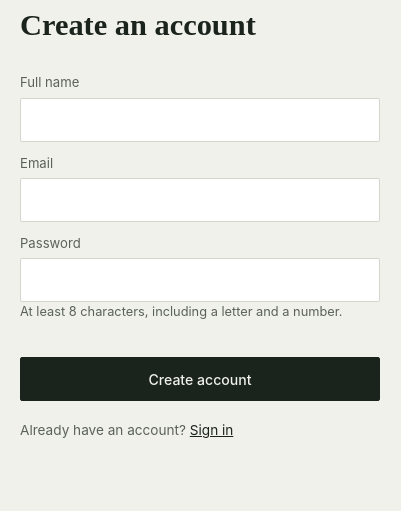
RegisterPage validation › rejects an email address with no domain
Type "Thandi Nkosi" into the field labelled "Full name" at (200, 120), box [20,98,380,142]
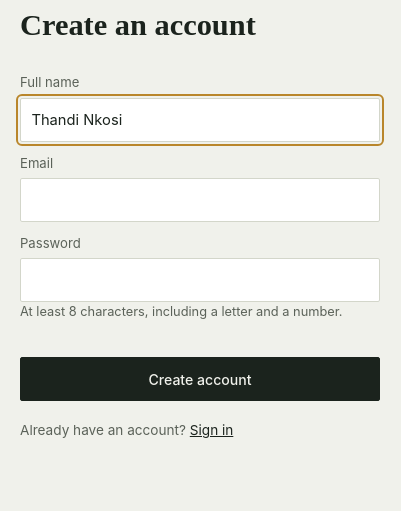
Type "thandi@example" into the field labelled "Email" at (200, 200), box [20,178,380,222]
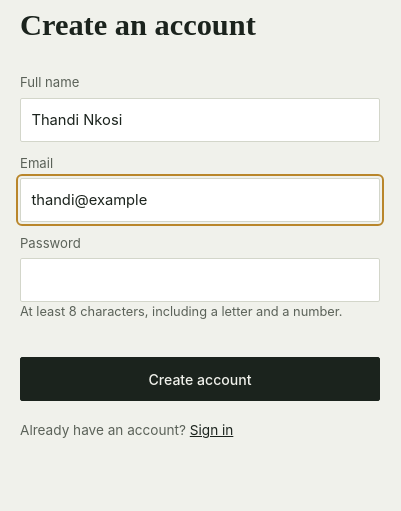
Type "correct-horse-9" into the password field labelled "Password" at (200, 280), box [20,258,380,302]
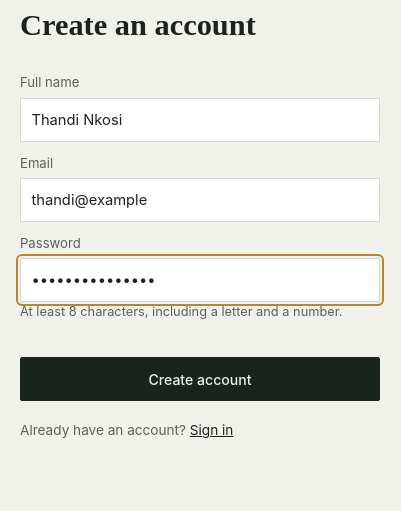
Click the button "Create account" at (200, 379), box [20,357,380,401]
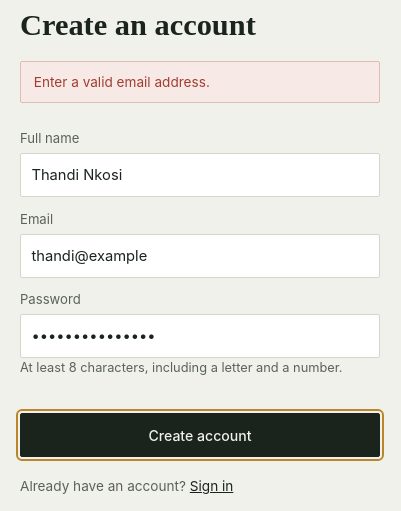
Result: the message reads "Enter a valid email address." at [34,74,210,90]
